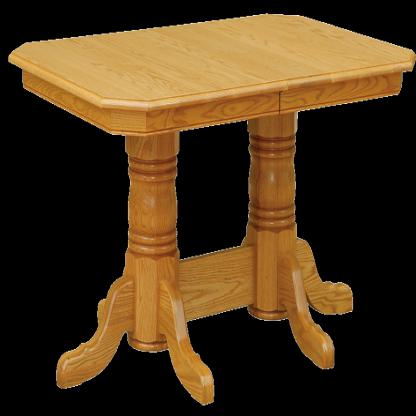table: (9, 11, 414, 401)
